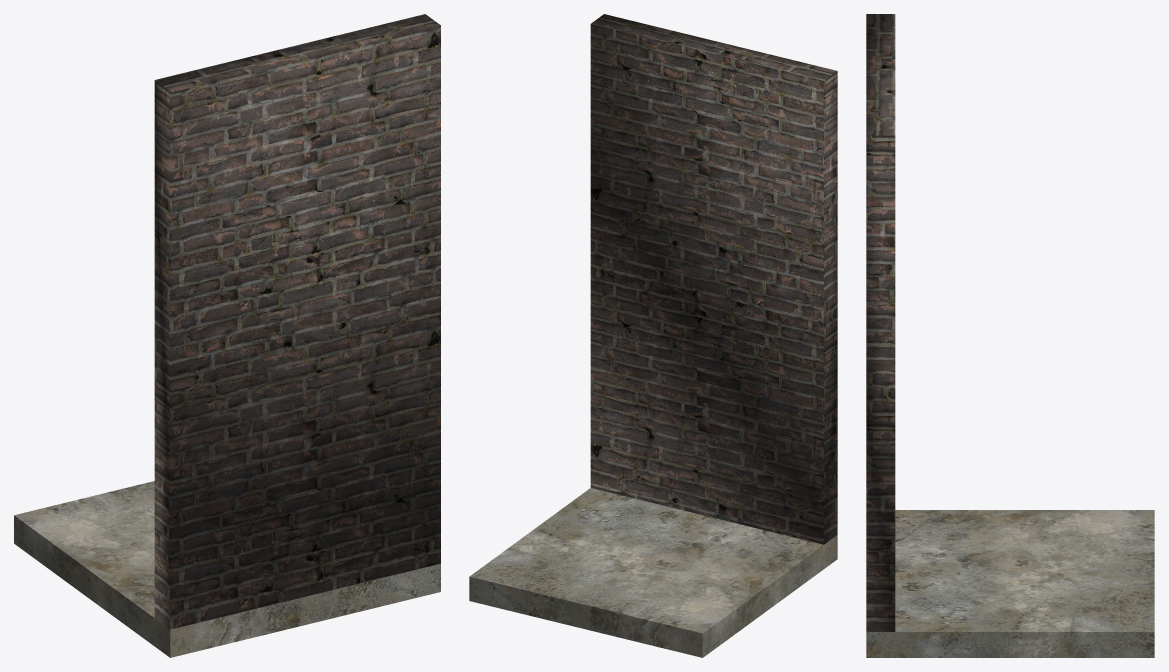
File: Wall_floor_end_nodoor.fbx
3 views of the same model, side by side, from view 1: azimuth 30°, elevation 25°; view 2: azimuth 150°, elevation 25°; view 3: azimuth 270°, elevation 25° (orthographic). The views are drawn at different scales.
Visible parts, largest first — view 1: Wall_floor_noroof_end_nodoor; view 2: Wall_floor_noroof_end_nodoor; view 3: Wall_floor_noroof_end_nodoor.
Part boxes in pixels (x1,y1,x2,y2): Wall_floor_noroof_end_nodoor: (14,14,440,657); Wall_floor_noroof_end_nodoor: (469,14,837,657); Wall_floor_noroof_end_nodoor: (866,14,1154,657).
Size of the model in its own units: 100 by 200 by 100.
